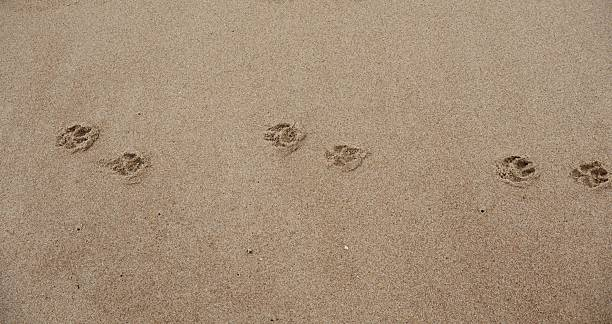animal_foot_print: (101, 151, 149, 183), (496, 155, 539, 185), (56, 124, 98, 152), (264, 123, 305, 151), (325, 144, 368, 170), (570, 161, 609, 188)
